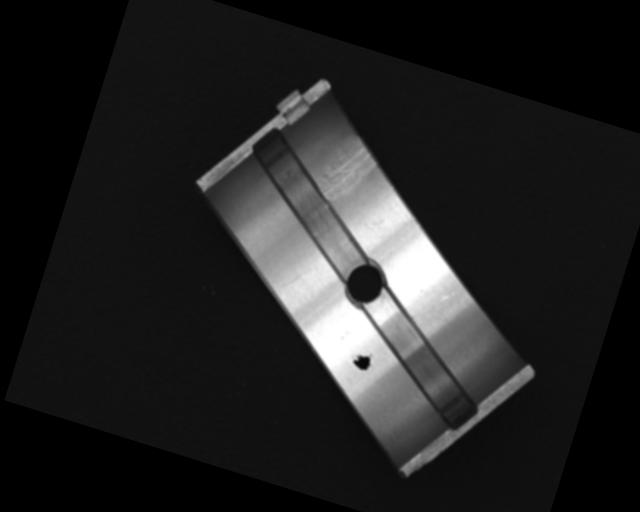blot: (347, 345, 375, 373)
gap: (226, 128, 394, 286), (340, 290, 501, 434)
hole: (341, 258, 389, 309)
nick: (411, 282, 456, 330), (281, 260, 311, 296)
scratch: (313, 131, 381, 210)
